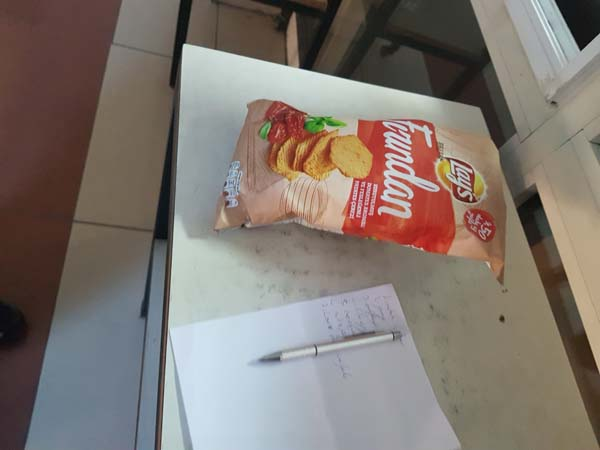laysfirindan: (214, 88, 520, 267)
